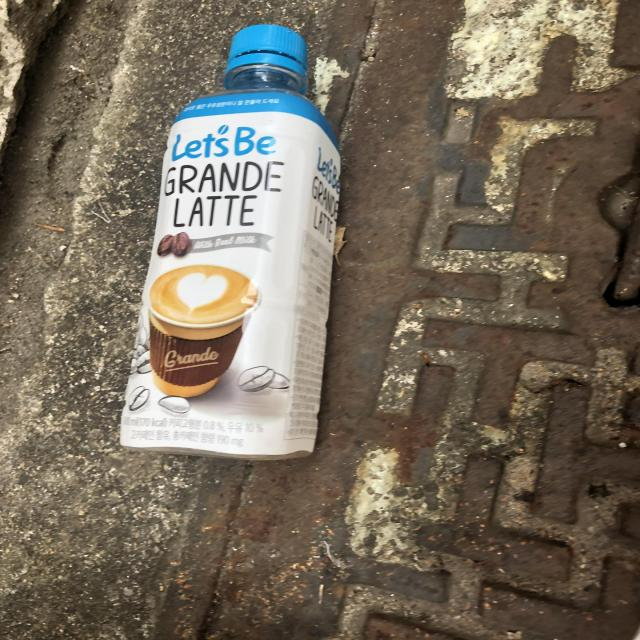plastic: (120, 24, 340, 460)
